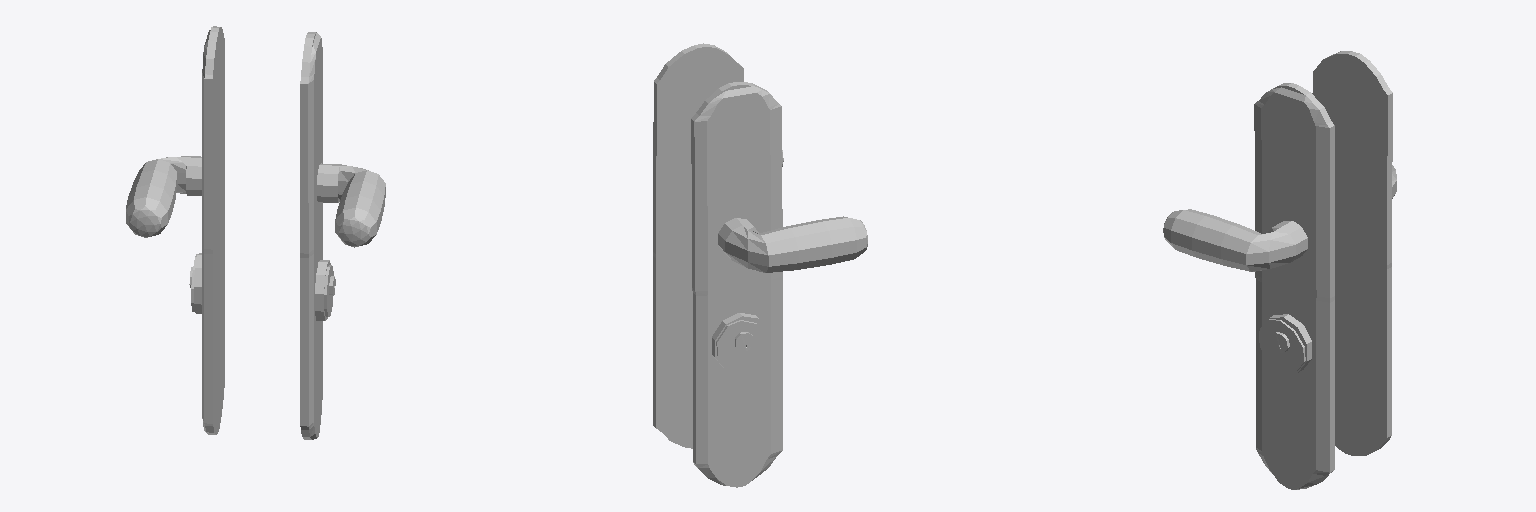
The model's file is lockset-handle.obj.
The picture shows the model from 3 angles: view 1: azimuth 30°, elevation 25°; view 2: azimuth 150°, elevation 25°; view 3: azimuth 270°, elevation 25°; orthographic projection.
Visible parts, largest first — view 1: Locker_Cube.003, Locker.001_Cube.004, Mesh.001_Icosphere.001, Mesh_Icosphere; view 2: Locker_Cube.003, Locker.001_Cube.004, Mesh_Icosphere; view 3: Locker.001_Cube.004, Locker_Cube.003, Mesh.001_Icosphere.001.
Part boxes in pixels (left/top/right/bottom): Locker_Cube.003: left=189, top=26, right=224, bottom=434; Locker.001_Cube.004: left=300, top=32, right=335, bottom=439; Mesh.001_Icosphere.001: left=317, top=163, right=385, bottom=247; Mesh_Icosphere: left=126, top=156, right=201, bottom=237; Locker_Cube.003: left=691, top=82, right=782, bottom=487; Locker.001_Cube.004: left=653, top=43, right=743, bottom=448; Mesh_Icosphere: left=718, top=216, right=867, bottom=272; Locker.001_Cube.004: left=1254, top=83, right=1334, bottom=489; Locker_Cube.003: left=1312, top=51, right=1392, bottom=455; Mesh.001_Icosphere.001: left=1163, top=209, right=1307, bottom=271.
Size of the model in its own units: 0.3047 by 0.515 by 0.2729.